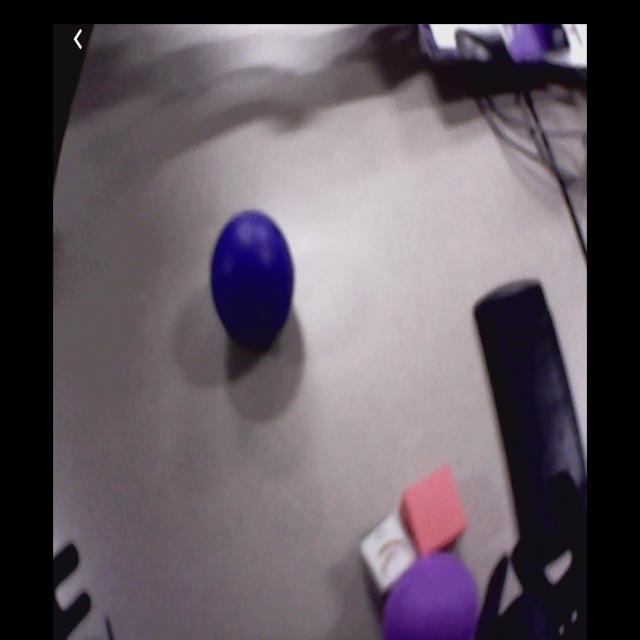ball: (209, 211, 294, 345), (384, 552, 480, 640)
